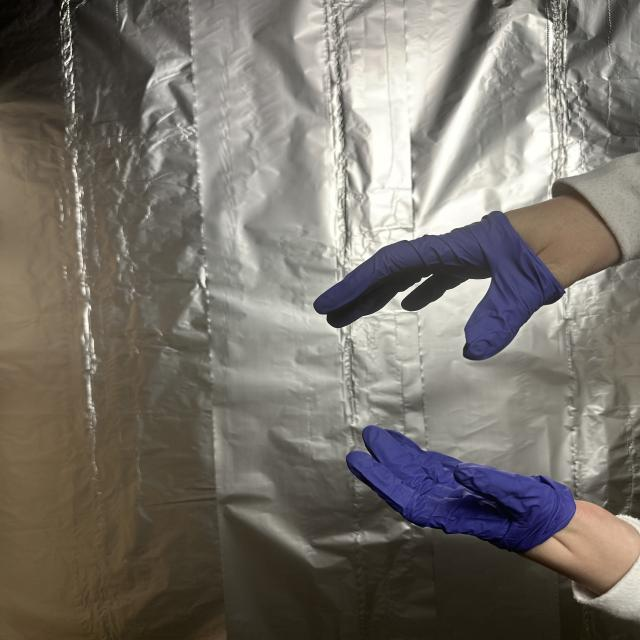glove_partial: (312, 193, 623, 362), (339, 423, 637, 595)
